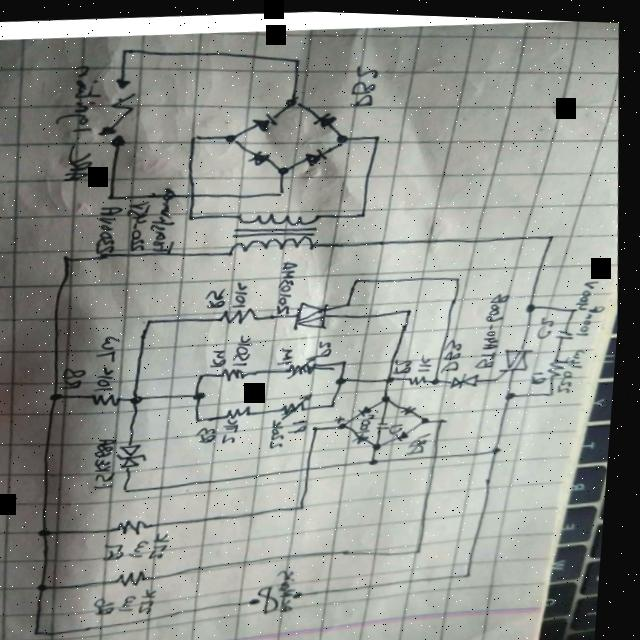capacitor: (559, 323, 580, 337), (380, 418, 397, 428)
crossover: (298, 458, 326, 475), (426, 445, 454, 461), (181, 186, 208, 202)
diode: (119, 441, 157, 468), (251, 110, 281, 132), (452, 368, 486, 387), (302, 145, 331, 166), (312, 109, 341, 127), (246, 147, 274, 165), (356, 429, 376, 442), (405, 401, 424, 413), (362, 401, 379, 414), (398, 426, 416, 438)
junction: (417, 543, 434, 554), (44, 527, 61, 538), (53, 391, 70, 402), (135, 393, 150, 405), (197, 412, 212, 424), (126, 484, 142, 495), (199, 369, 215, 380), (197, 389, 212, 400), (37, 628, 53, 638), (301, 500, 317, 510), (342, 418, 358, 428), (439, 412, 455, 422), (382, 390, 398, 400), (385, 372, 401, 382), (338, 374, 354, 384), (403, 304, 419, 314), (432, 373, 448, 383), (569, 302, 585, 312), (187, 211, 203, 221), (277, 163, 293, 173), (369, 130, 385, 140), (285, 95, 301, 105), (224, 131, 240, 141), (288, 54, 304, 64), (547, 386, 564, 395), (44, 582, 59, 592), (329, 398, 344, 408), (146, 316, 161, 326), (354, 273, 369, 283), (527, 299, 542, 309), (356, 208, 371, 218), (189, 131, 204, 141), (467, 566, 483, 575), (494, 442, 510, 451), (507, 387, 523, 396), (371, 455, 387, 464), (342, 297, 358, 306), (452, 271, 468, 280), (61, 254, 77, 263), (336, 132, 352, 141), (116, 47, 132, 56), (315, 421, 330, 430), (375, 439, 390, 448), (421, 413, 436, 422), (341, 354, 356, 363), (547, 229, 562, 238), (276, 187, 291, 196), (106, 193, 121, 202)
resistor: (280, 389, 321, 419), (286, 350, 328, 379), (219, 302, 266, 325), (120, 566, 160, 588), (119, 516, 160, 537), (548, 352, 575, 375), (94, 390, 130, 407), (227, 402, 260, 419), (222, 365, 255, 382), (411, 371, 435, 383)
terminal: (109, 132, 129, 147), (115, 76, 132, 89), (256, 593, 271, 604), (299, 587, 313, 598)
text: (50, 62, 110, 182), (97, 182, 185, 258), (476, 288, 521, 366), (110, 528, 180, 562), (573, 274, 613, 333), (101, 585, 169, 616), (97, 334, 132, 391), (214, 331, 260, 368), (276, 258, 306, 313), (558, 343, 593, 390), (96, 436, 127, 488), (347, 62, 383, 105), (205, 278, 254, 309), (274, 414, 316, 448), (201, 416, 248, 444), (282, 565, 307, 610), (394, 349, 438, 372), (444, 334, 470, 368), (409, 428, 442, 453), (64, 365, 94, 390), (539, 312, 561, 335), (361, 410, 383, 430), (278, 345, 298, 364), (317, 337, 337, 355), (533, 366, 551, 381), (394, 420, 411, 432)
thyristor: (294, 297, 344, 329), (501, 341, 542, 373)
transformer: (228, 203, 328, 258)
